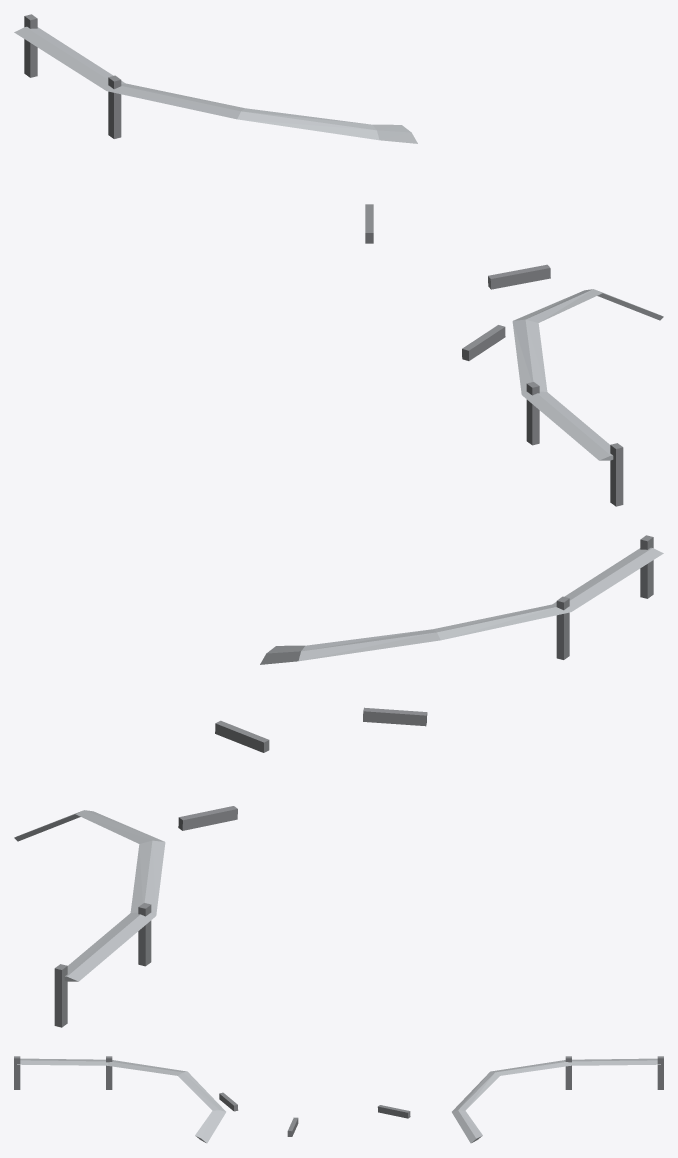
Rendered from GuardrailTorn.obj.
3 views of the same model, one above another, from view 1: azimuth 30°, elevation 25°; view 2: azimuth 150°, elevation 25°; view 3: azimuth 270°, elevation 25° (orthographic). The views are drawn at different scales.
Visible parts, largest first — view 1: GuardrailTorn; view 2: GuardrailTorn; view 3: GuardrailTorn.
Part boxes in pixels (x1,y1,x2,y2): GuardrailTorn: (14, 14, 663, 506); GuardrailTorn: (14, 535, 663, 1027); GuardrailTorn: (14, 1056, 663, 1143).
Size of the model in its own units: 3.2 by 0.7952 by 14.14.
Materials: 1 (1 with a texture image).
